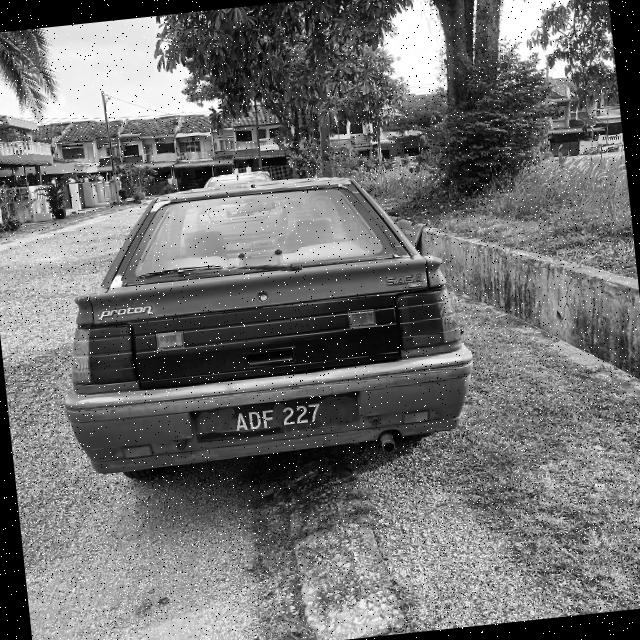License_Plate: (204, 396, 342, 442)
car: (58, 163, 480, 503)
